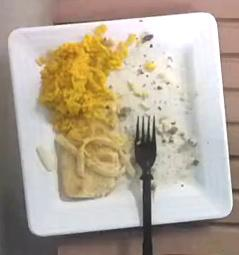naan: (57, 131, 133, 199)
rice: (38, 25, 136, 139)
